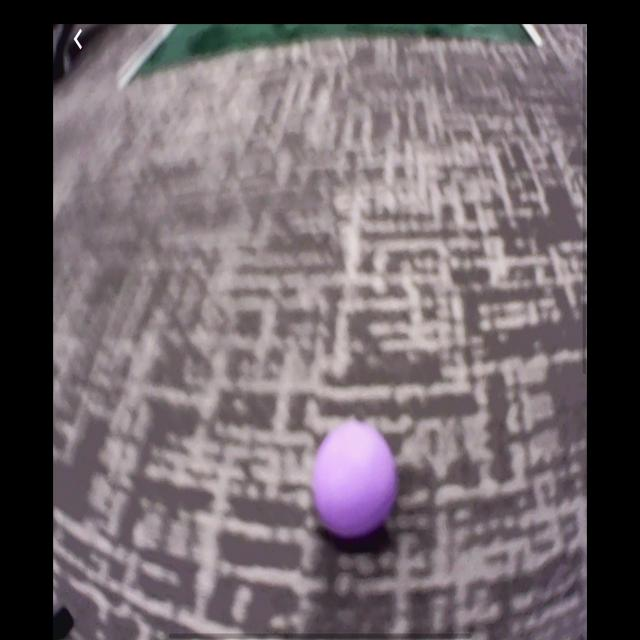ball: (311, 421, 395, 536)
